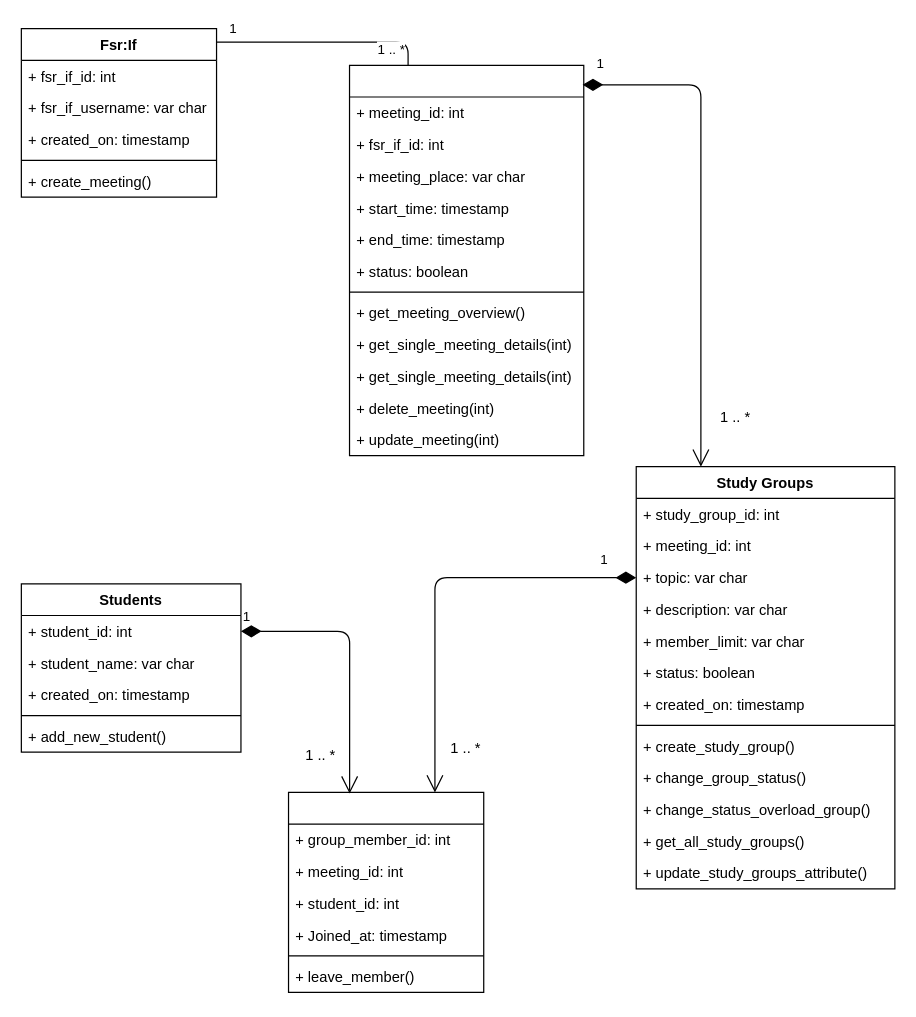
Image size: 916x1017. Some labels were removed from this diagram. The box of each missing label's shape, as (x1, y1, x2, y2) in pixels:
Group Members: (287, 791, 484, 992)
Meetings: (348, 64, 584, 456)
